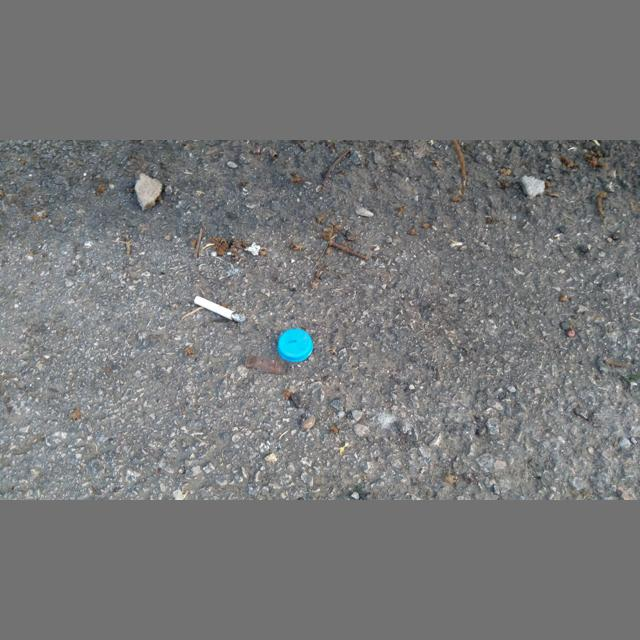litter: (194, 296, 245, 323), (278, 328, 313, 362), (328, 239, 368, 260)
